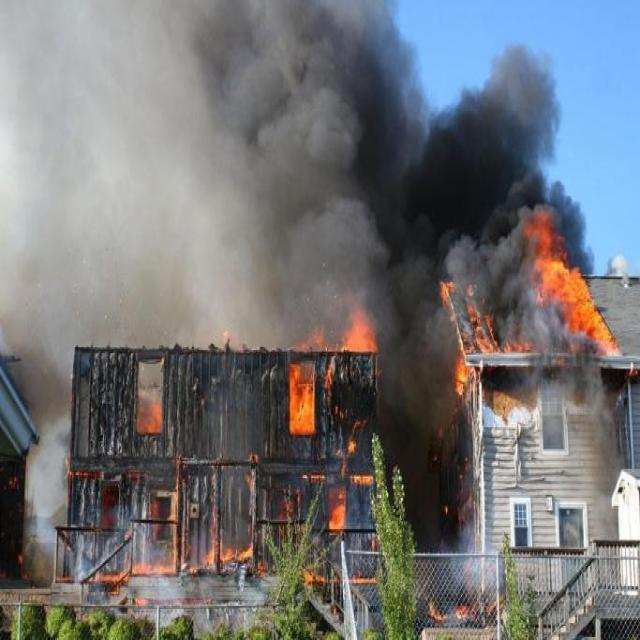Fire: (528, 214, 614, 352), (290, 360, 314, 436)
Smoke: (0, 0, 454, 347), (453, 42, 578, 206), (454, 208, 526, 320)
